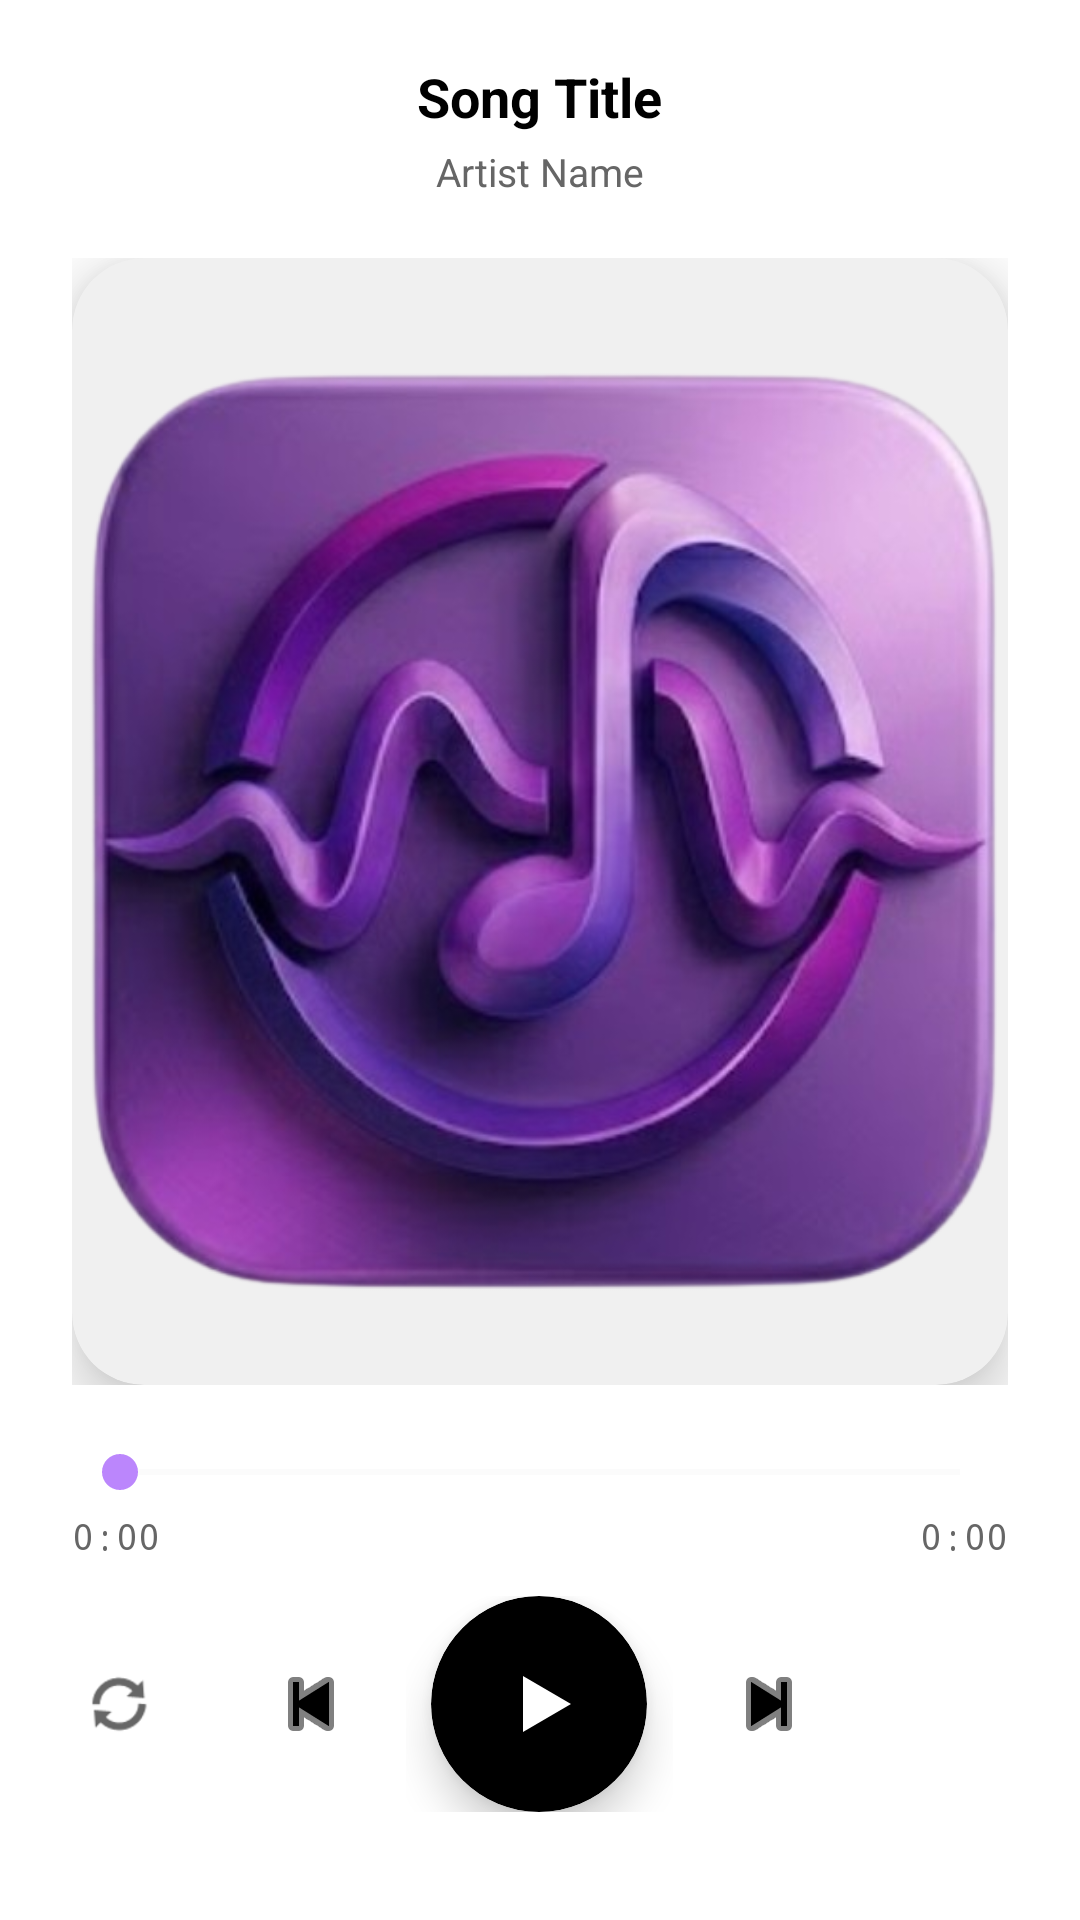

Where icons sit on this 1080w x 1920h app screen, as (x1=x1, y1=y1, x2=x2, y2=y2):
Next: (x1=746, y1=1677, x2=792, y2=1731)
Previous: (x1=288, y1=1677, x2=334, y2=1731)
Repeat: (x1=92, y1=1677, x2=147, y2=1731)
▶ Play: (x1=523, y1=1676, x2=571, y2=1732)
